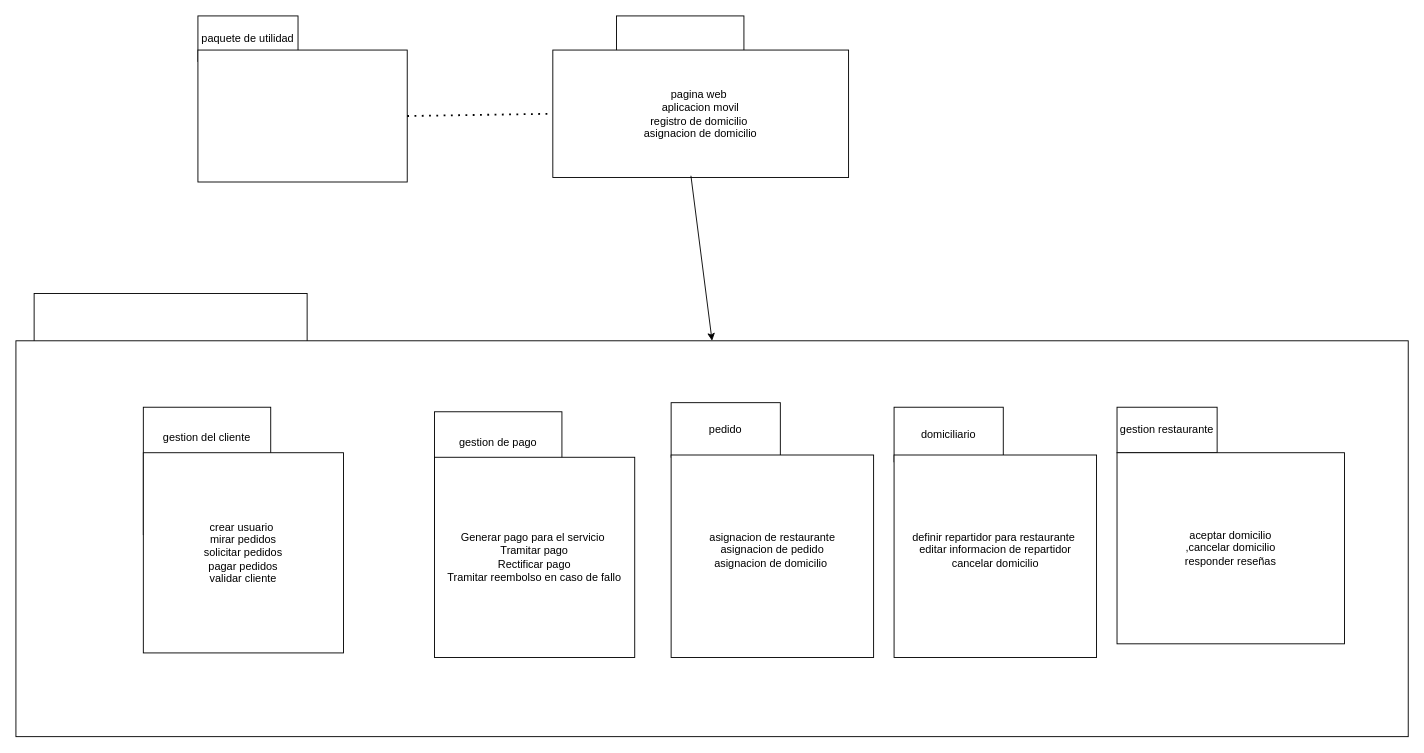
The diagram is 1424 pixels wide and 753 high, and some of its shapes have lost their labels. Here are the shapes that lost their labels. From the top down, the centre of each, then its label:
At (680,33): "paquete de aplicativo tecnologico".
At (302,115): "reseña despues de domicilo".
At (170,320): "Aplicativo tecnologico".
